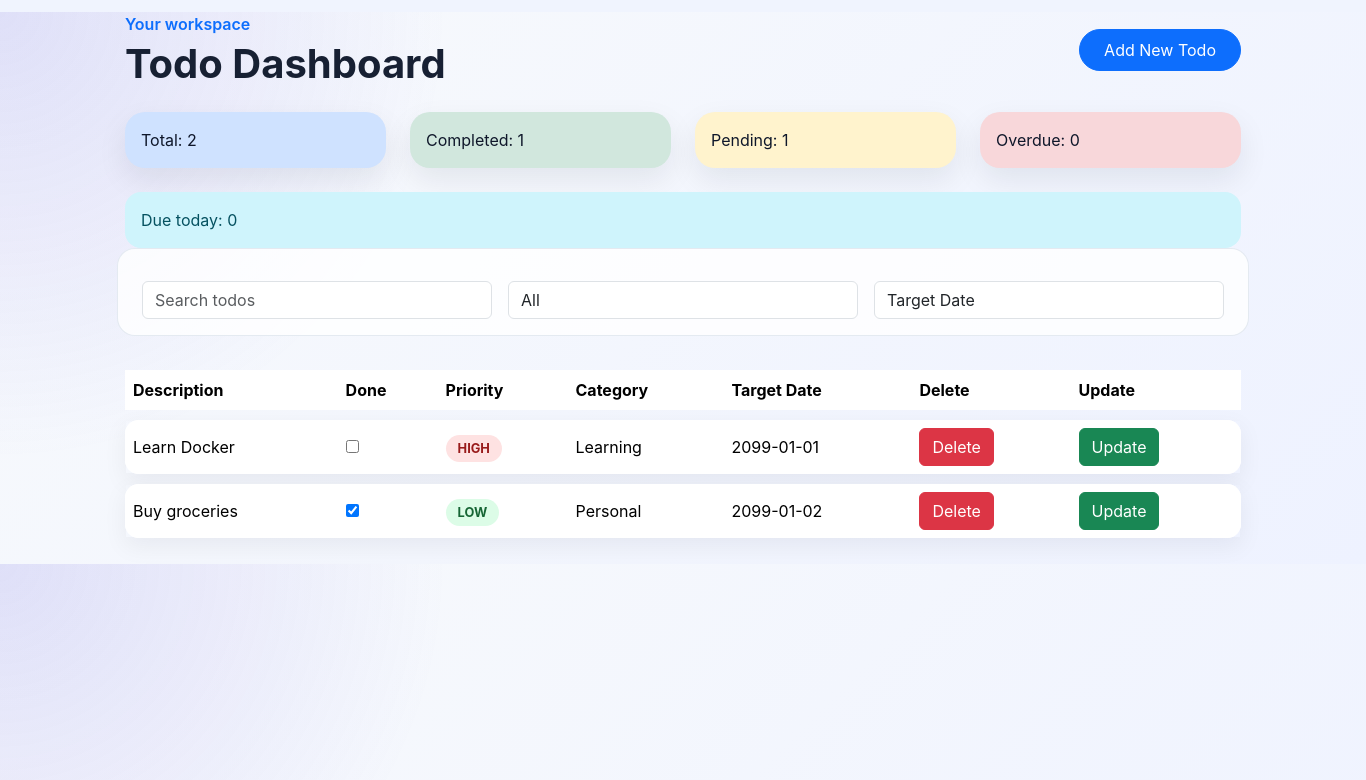
it: renders dashboard stats and supports search
The width and height of the screenshot is (1366, 780).
Expected: the text "Total: 2" is shown, [125,112,386,168]
Expected: the text "Completed: 1" is shown, [410,112,671,168]
Type "docker" into the field with placeholder "Search todos" at [317, 300], box [142,281,492,319]
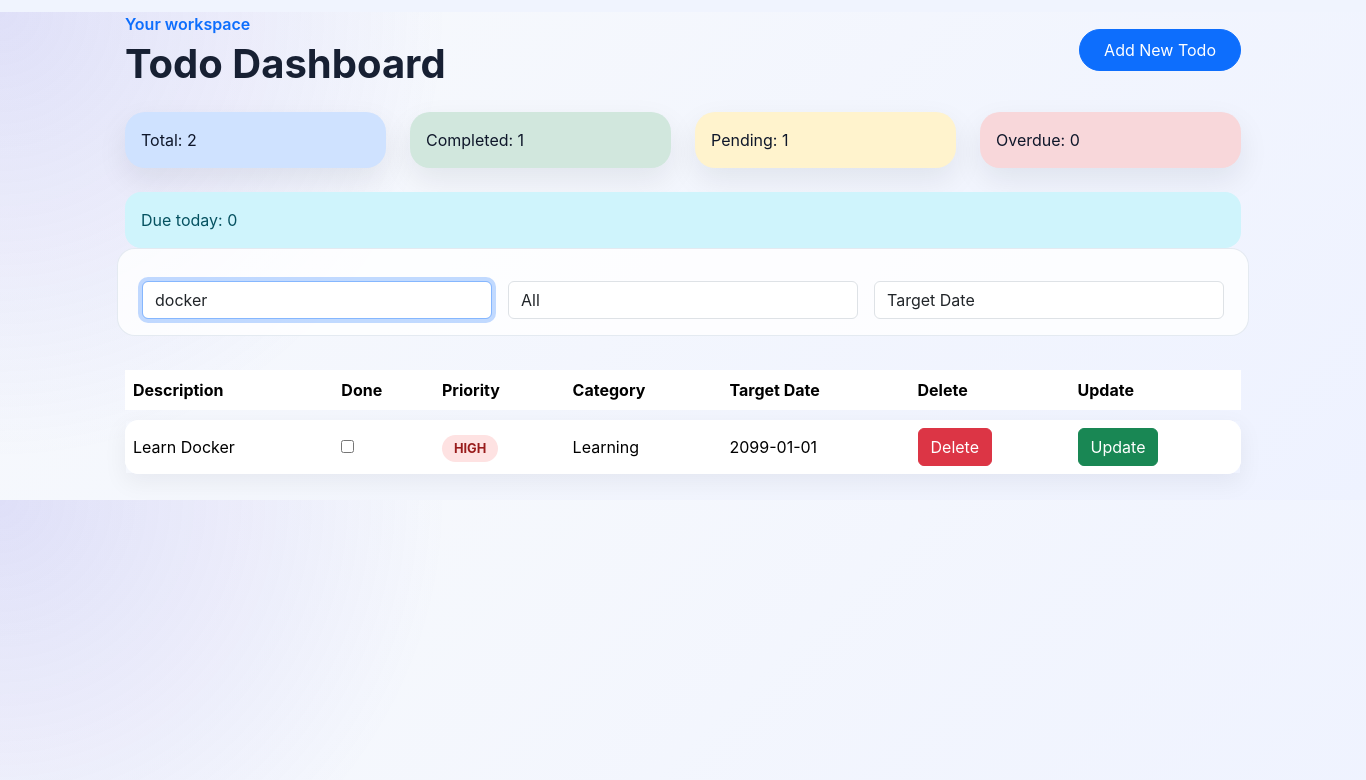
Expected: the text "Learn Docker" is shown, [125,420,333,474]
Now the text "Buy groceries" is gone
